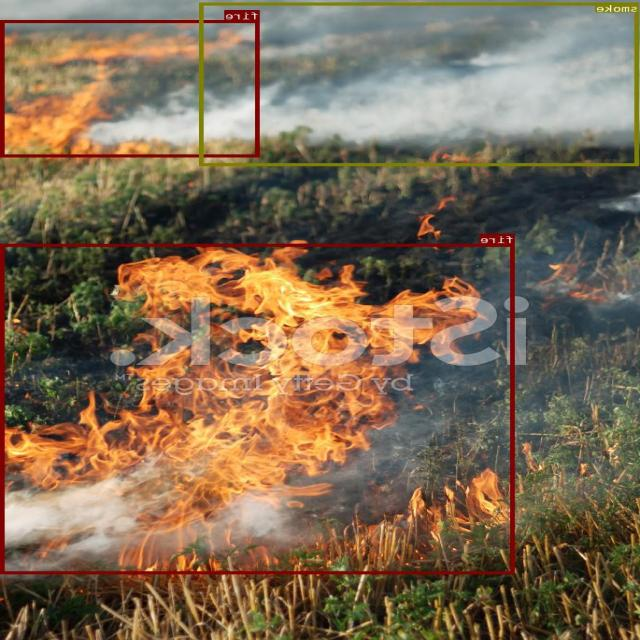fire: (2, 243, 515, 573), (2, 20, 260, 156)
smoke: (200, 2, 640, 165)
